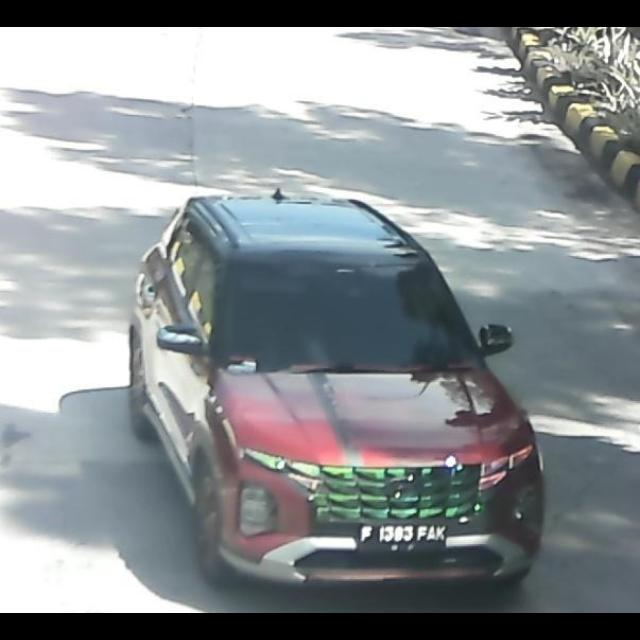plate: (359, 520, 449, 552)
